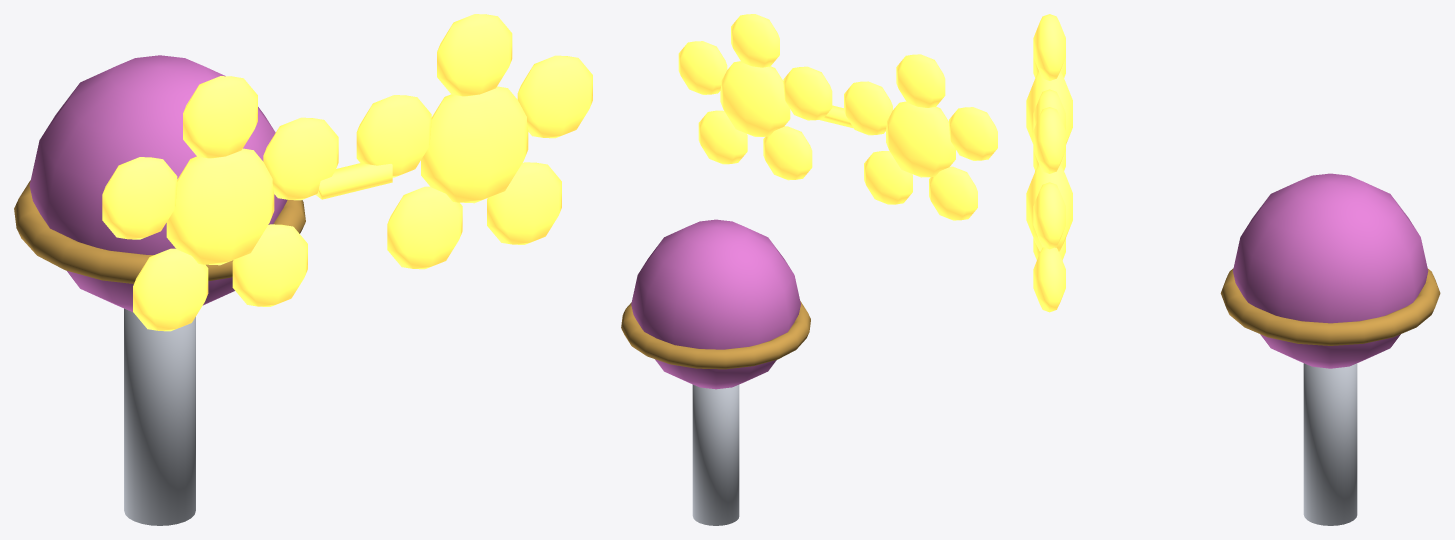
File: opera_popstar_outfit.glb
3 renders of one model, left to right at view 1: azimuth 30°, elevation 25°; view 2: azimuth 150°, elevation 25°; view 3: azimuth 270°, elevation 25°, orthographic. The views are drawn at different scales.
Parts seen in each view (by area): view 1: MicBall, MicHandle, StarC, StarC.001, MicRing, Pt.005, Pt.001, Pt, Pt.007, Pt.002, Pt.009, Pt.004 (+4 smaller); view 2: MicBall, MicHandle, MicRing, StarC.001, StarC, Pt, Pt.006, Pt.001, Pt.005, Pt.007, Pt.002, Pt.009 (+3 smaller); view 3: MicBall, MicHandle, MicRing, Pt.005, Pt, Pt.009, Pt.008, StarC.001, StarC, Pt.004.
Part boxes in pixels (<box>): MicBall: <box>29,55,287,311</box>; MicHandle: <box>124,308,195,525</box>; StarC: <box>166,148,274,265</box>; StarC.001: <box>421,86,528,203</box>; MicRing: <box>14,180,305,283</box>; Pt.005: <box>437,14,512,96</box>; Pt.001: <box>102,157,177,239</box>; Pt: <box>183,76,257,158</box>; Pt.007: <box>387,186,462,269</box>; Pt.002: <box>133,248,208,331</box>; Pt.009: <box>517,55,592,138</box>; Pt.004: <box>263,117,338,200</box>; MicBall: <box>631,219,800,389</box>; MicHandle: <box>692,384,739,525</box>; MicRing: <box>621,301,810,369</box>; StarC.001: <box>720,61,790,136</box>; StarC: <box>886,101,955,177</box>; Pt: <box>896,54,945,107</box>; Pt.006: <box>783,66,832,120</box>; Pt.001: <box>949,107,997,160</box>; Pt.005: <box>731,14,779,67</box>; Pt.007: <box>763,126,812,180</box>; Pt.002: <box>929,166,977,220</box>; Pt.009: <box>678,41,727,94</box>; MicBall: <box>1233,173,1428,368</box>; MicHandle: <box>1303,363,1357,525</box>; MicRing: <box>1220,268,1440,345</box>; Pt.005: <box>1033,107,1065,173</box>; Pt: <box>1033,14,1065,80</box>; Pt.009: <box>1033,182,1065,249</box>; Pt.008: <box>1033,247,1065,312</box>; StarC.001: <box>1026,164,1072,251</box>; StarC: <box>1026,71,1072,144</box>; Pt.004: <box>1033,89,1065,130</box>.
Bounding box in the file's own units: 1.74 × 2.04 × 1.7.
